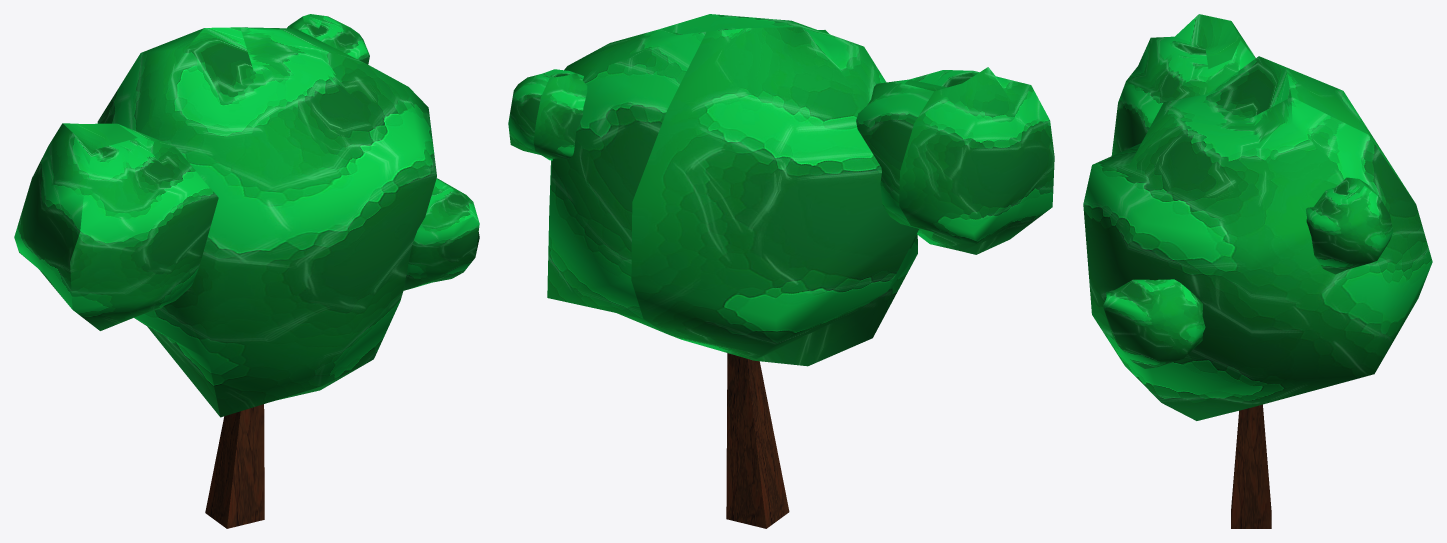
Rendered from bush2.fbx.
The picture shows the model from 3 angles, left to right: view 1: azimuth 30°, elevation 25°; view 2: azimuth 150°, elevation 25°; view 3: azimuth 270°, elevation 25°; orthographic projection. The views are drawn at different scales.
Parts seen in each view (by area): view 1: polymsh; view 2: polymsh; view 3: polymsh.
Part boxes in pixels (x1,y1,x2,y2): polymsh: (14, 14, 479, 528); polymsh: (508, 14, 1054, 528); polymsh: (1083, 14, 1432, 528).
Size of the model in its own units: 56.09 by 60.78 by 43.18.
